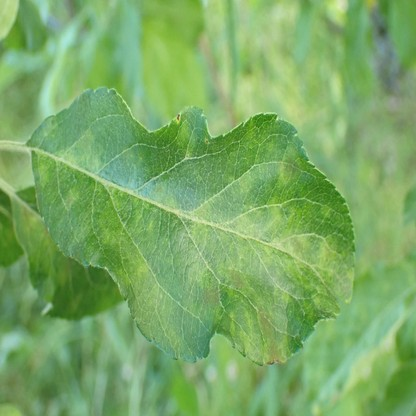powdery_mildew: (340, 264, 352, 301)
scab: (117, 249, 180, 346), (92, 181, 141, 245), (256, 297, 288, 363), (61, 131, 101, 170), (20, 201, 50, 244), (260, 229, 290, 265), (189, 203, 212, 244), (232, 214, 253, 257), (311, 279, 337, 313), (316, 233, 337, 272), (288, 204, 310, 231), (152, 182, 176, 206), (202, 284, 221, 312), (281, 155, 301, 181), (226, 269, 246, 292), (61, 188, 80, 212), (267, 206, 286, 226), (290, 237, 307, 258), (236, 173, 251, 194), (319, 203, 330, 219)
